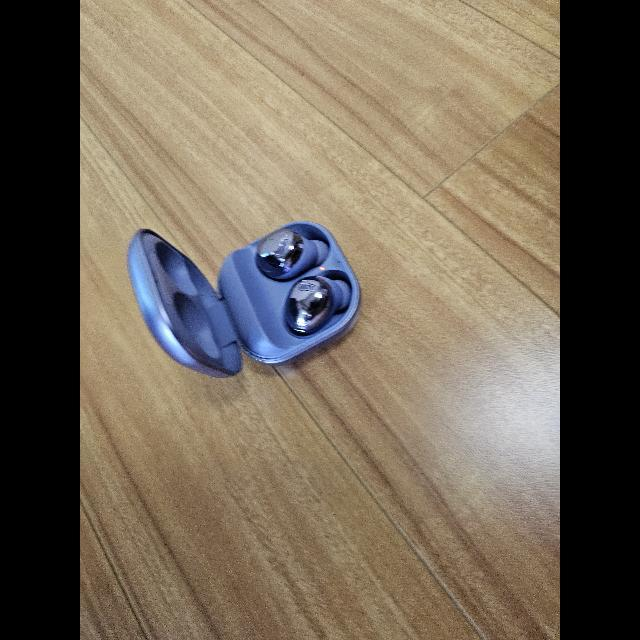buds-pro: (125, 217, 362, 381)
